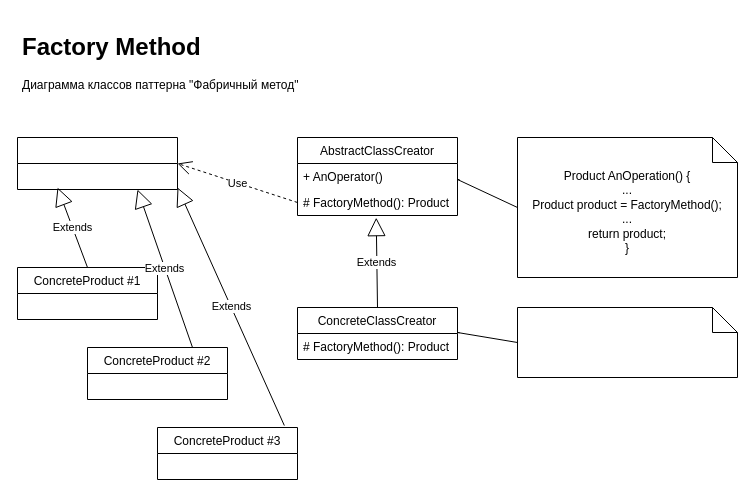
The diagram is 755 pixels wide and 497 high, and some of its shapes have lost their labels. The centre of each missing label's shape, as x and y in pixels:
"Product" goes at point (97, 163).
"return ConcreteProduct();" goes at point (627, 342).
